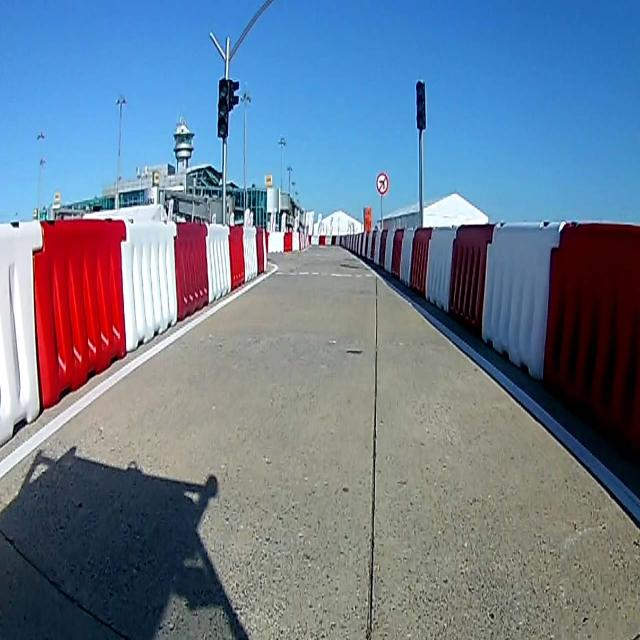soladonulmez: (376, 173, 388, 194)
